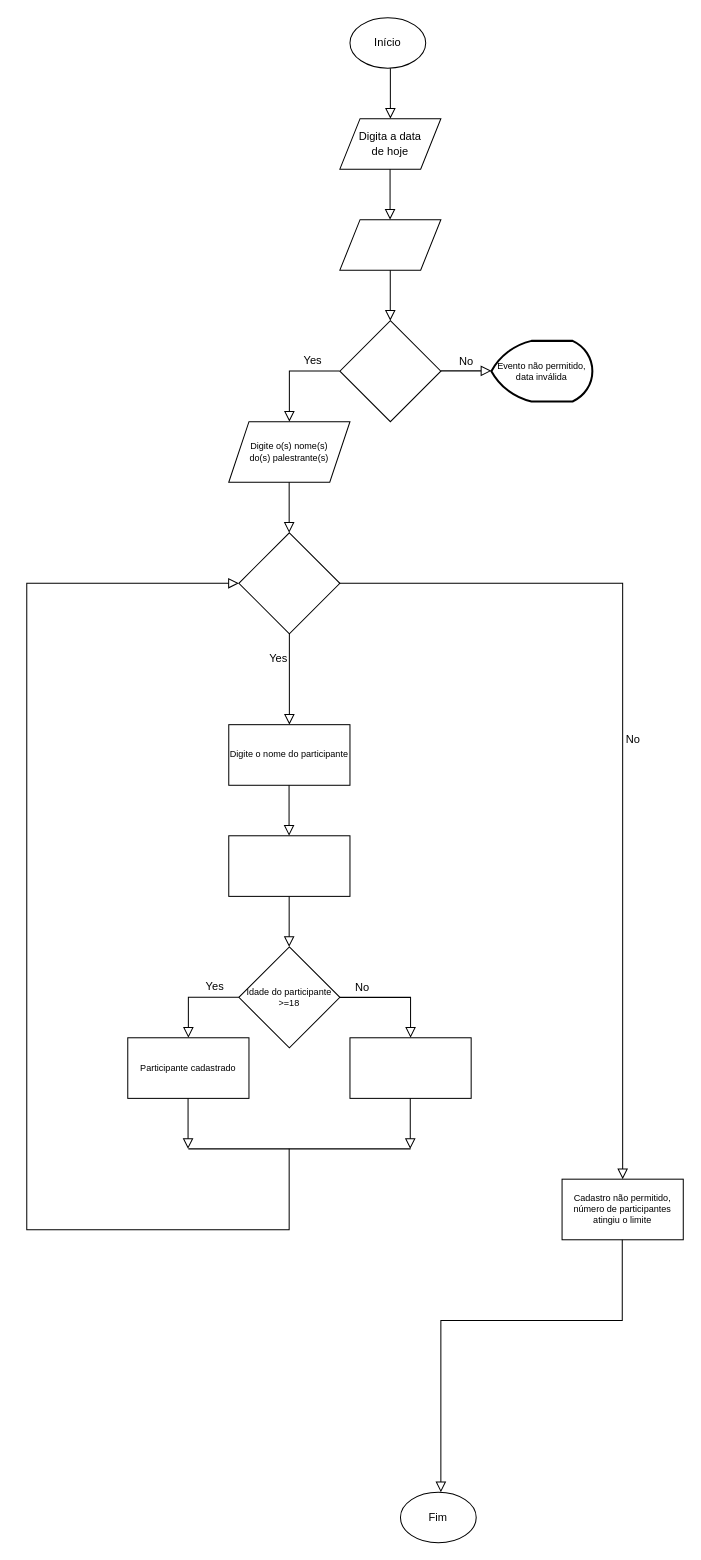
This 701x1560 diagram has some shape labels left out. The shapes that lost their labels are listed below. From the top down, each one's centre as x and y in pixels, then its label:
the point at 390,244: Digita a data do evento
the point at 390,371: Data do evento posterior a data de hoje?
the point at 289,583: Número de participantes <=100
the point at 289,865: Digite a idade do participante
the point at 410,1067: Idade do participante não compatível com a idade mínima permitida no evento
